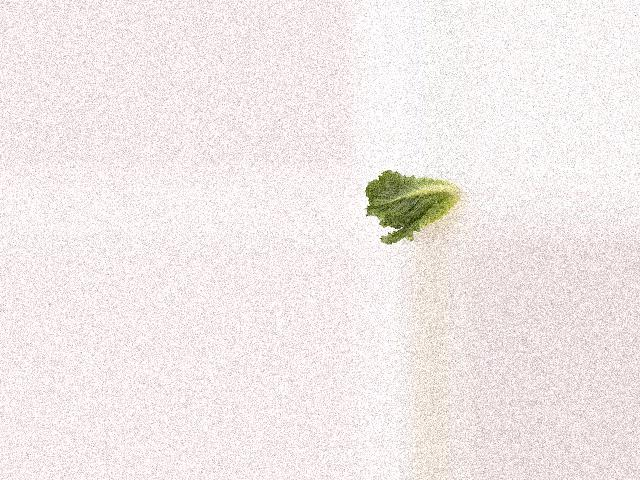lettuce: (362, 168, 471, 240)
